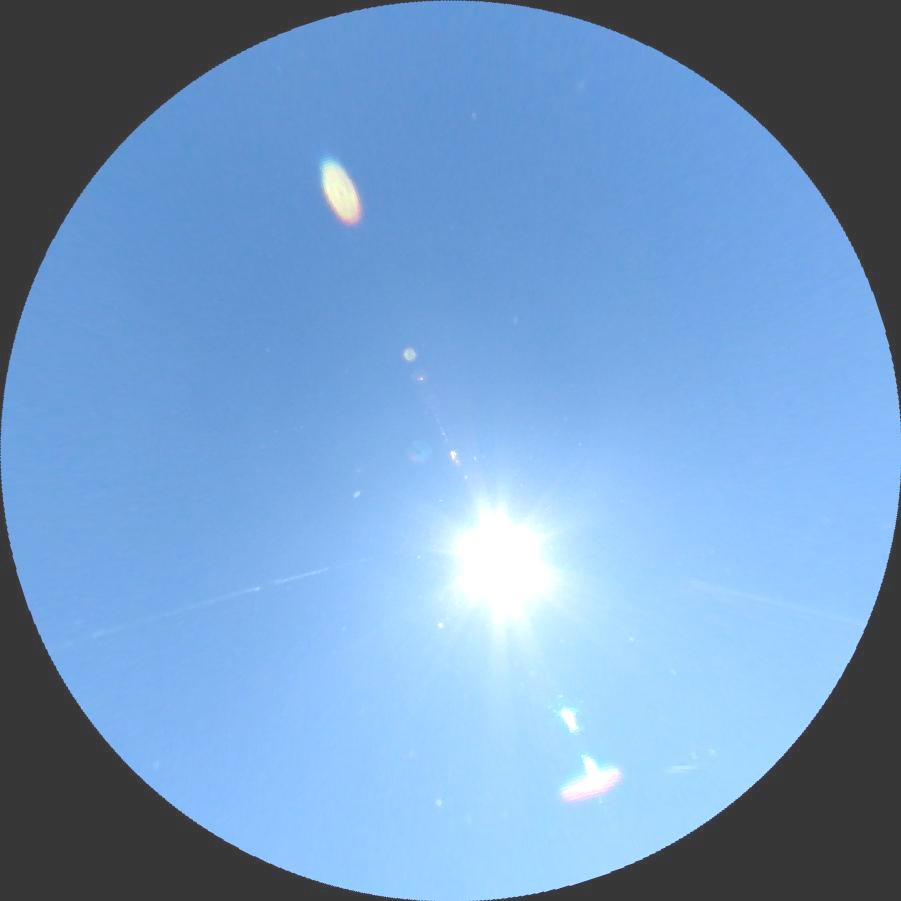parasite: (51, 564, 337, 652), (674, 576, 869, 628)
sun: (447, 509, 548, 608)
